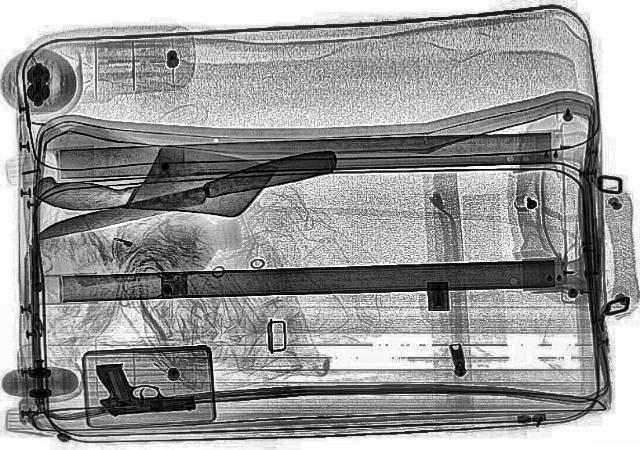Gun: (91, 359, 197, 417)
Knife: (22, 142, 350, 250), (24, 130, 280, 234)
